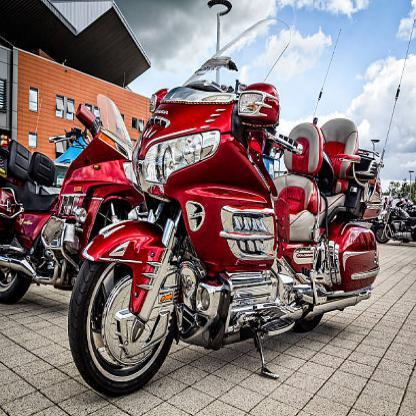Motorcycle: (61, 55, 381, 398), (2, 71, 134, 285)
